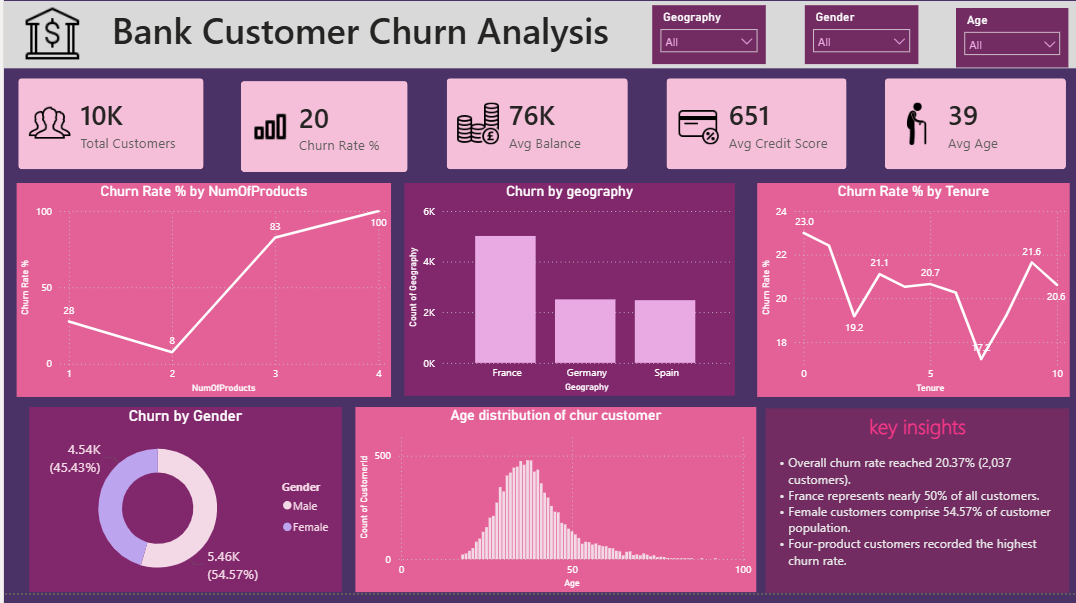

The dashboard page shown, as its layout file describes it:
{"tool":"powerbi","page":{"name":"Page 1","canvas":[1280,720],"ordinal":0},"visuals":[{"type":"cardVisual","fields":{"Data":["public customer_churn.Total Customers"]},"box":[0,91.5,254,142],"z":0},{"type":"cardVisual","fields":{"Data":["public customer_churn.Churn Rate %"]},"box":[265.3,95.6,232.2,142],"z":2},{"type":"cardVisual","fields":{"Data":["public customer_churn.Avg Balance"]},"box":[508.7,91.5,249.9,142],"z":3},{"type":"cardVisual","fields":{"Data":["public customer_churn.Avg Credit Score"]},"box":[769.9,91.5,248.5,142],"z":4},{"type":"cardVisual","fields":{"Data":["public customer_churn.Avg Age"]},"box":[1029.7,91.5,249.9,142],"z":5},{"type":"textbox","box":[0,16.6,1279.5,79.9],"z":6},{"type":"donutChart","title":"Churn by Gender","fields":{"Category":["public customer_churn.Gender"],"Y":["CountNonNull(public customer_churn.Gender)"]},"box":[30,499.8,371.5,219.9],"z":7},{"type":"columnChart","title":"Age distribution of chur customer","fields":{"Y":["CountNonNull(public customer_churn.CustomerId)"],"Category":["public customer_churn.Age"]},"box":[417.9,499.8,476.6,219.9],"z":8},{"type":"columnChart","title":"Churn by geography","fields":{"Category":["public customer_churn.Geography"],"Y":["CountNonNull(public customer_churn.Geography)"]},"box":[475.9,232.9,392.7,252.9],"z":9},{"type":"lineChart","fields":{"Category":["public customer_churn.NumOfProducts"],"Y":["public customer_churn.Churn Rate %"]},"box":[15,233.5,445.2,254],"z":10},{"type":"lineChart","fields":{"Y":["public customer_churn.Churn Rate %"],"Category":["public customer_churn.Tenure"]},"box":[894.5,233.5,371.5,254],"z":11},{"type":"slicer","fields":{"Values":["public customer_churn.Geography"]},"box":[770.4,21.6,134.8,69.9],"z":12},{"type":"image","box":[0,21.9,114.7,69.6],"z":13},{"type":"slicer","fields":{"Values":["public customer_churn.Gender"]},"box":[951,21.9,135.2,69.6],"z":14},{"type":"slicer","fields":{"Values":["public customer_churn.Age"]},"box":[1132.1,24.6,133.8,71],"z":15},{"type":"textbox","box":[905.2,500.8,361.1,219.6],"z":16}]}

Visuals, with their boxes in screenshot pixels (x1, y1, x2, y2), scaled from the page's 1280x720 canvas onto the 1076x603 screenshot:
cardVisual - public customer_churn.Total Customers: left=0, top=77, right=214, bottom=196
cardVisual - public customer_churn.Churn Rate %: left=223, top=80, right=418, bottom=199
cardVisual - public customer_churn.Avg Balance: left=428, top=77, right=638, bottom=196
cardVisual - public customer_churn.Avg Credit Score: left=647, top=77, right=856, bottom=196
cardVisual - public customer_churn.Avg Age: left=866, top=77, right=1075, bottom=196
textbox: left=0, top=14, right=1075, bottom=81
"Churn by Gender" donutChart: left=25, top=419, right=338, bottom=602
"Age distribution of chur customer" columnChart: left=351, top=419, right=752, bottom=602
"Churn by geography" columnChart: left=400, top=195, right=730, bottom=407
lineChart - public customer_churn.NumOfProducts x public customer_churn.Churn Rate %: left=13, top=196, right=387, bottom=408
lineChart - public customer_churn.Churn Rate % x public customer_churn.Tenure: left=752, top=196, right=1064, bottom=408
slicer - public customer_churn.Geography: left=648, top=18, right=761, bottom=77
image: left=0, top=18, right=96, bottom=77
slicer - public customer_churn.Gender: left=799, top=18, right=913, bottom=77
slicer - public customer_churn.Age: left=952, top=21, right=1064, bottom=80
textbox: left=761, top=419, right=1064, bottom=602
